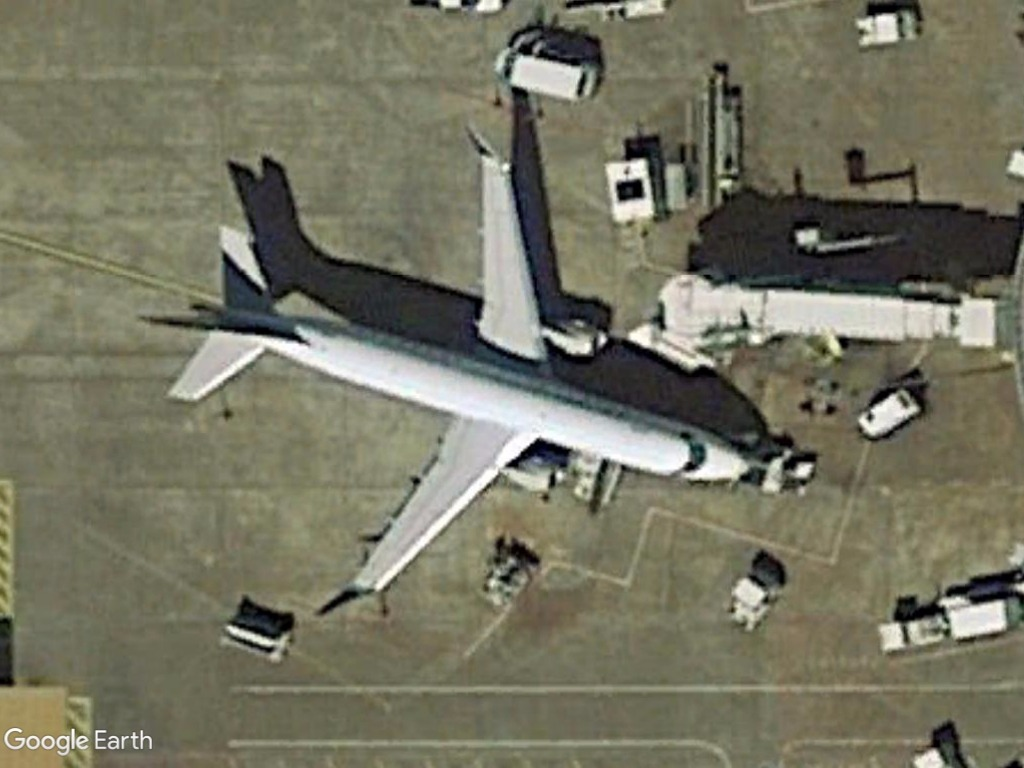airliner: (163, 142, 755, 611)
van: (487, 43, 600, 106)
